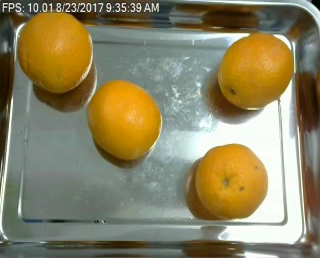Orange: (17, 7, 92, 92), (217, 33, 294, 110), (88, 78, 162, 158), (194, 142, 268, 218)
